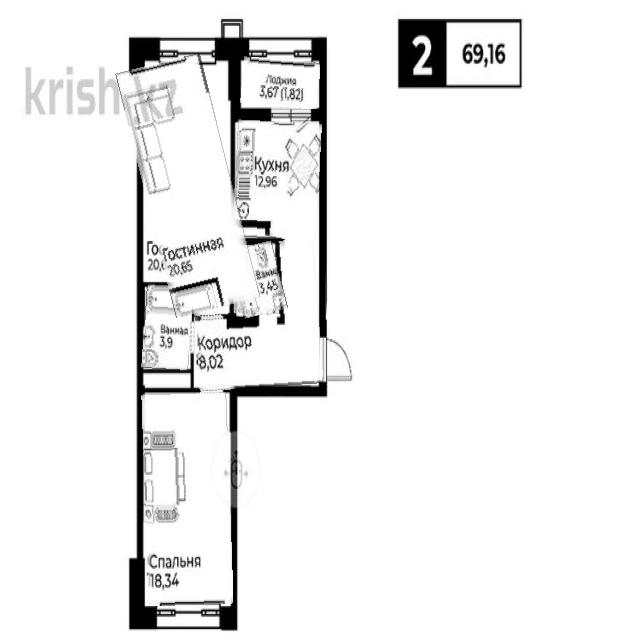bathroom: (227, 241, 288, 319), (141, 285, 193, 371), (240, 57, 320, 109)
hallway: (195, 239, 323, 391)
kitchen: (234, 120, 322, 240)
living_room: (116, 54, 260, 306), (141, 393, 233, 606)
